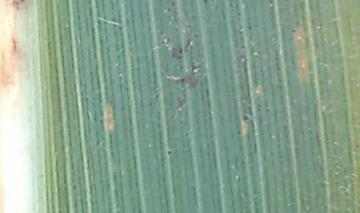tarspot: (185, 38, 193, 50), (176, 46, 184, 54), (242, 114, 249, 123), (164, 150, 174, 156), (227, 2, 235, 9), (178, 77, 187, 83), (246, 23, 252, 31), (169, 1, 177, 7), (159, 39, 166, 45), (290, 27, 296, 33), (201, 1, 210, 5), (165, 7, 171, 13)
